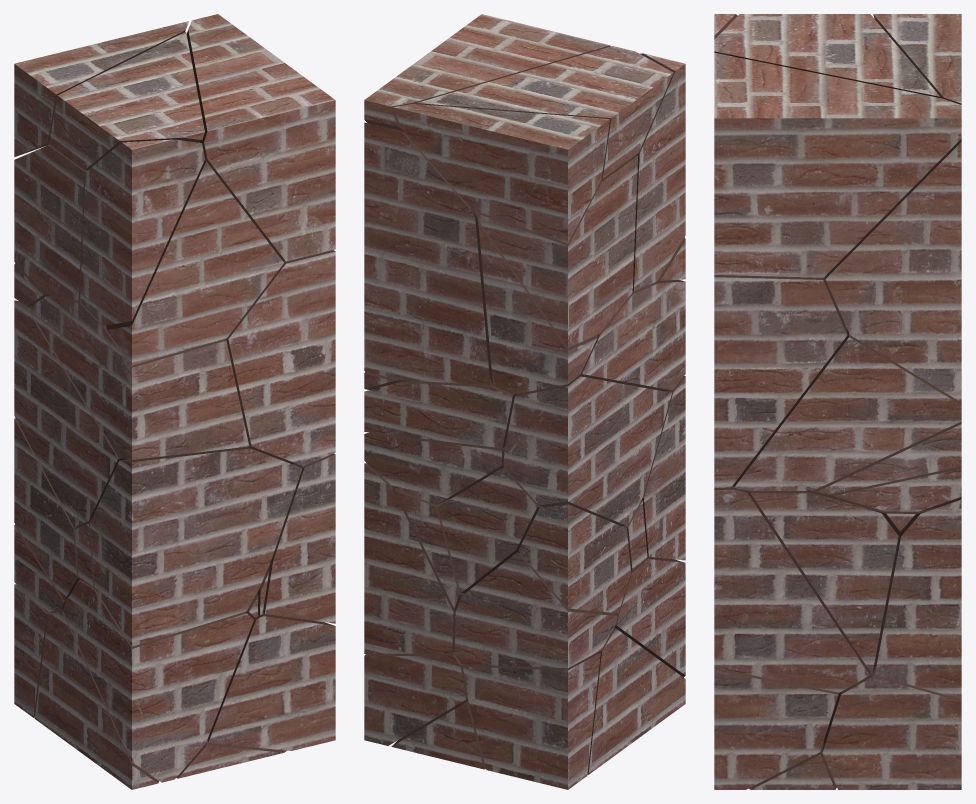
File: brkn_brickPillar1.fbx
3 renders of one model, left to right at view 1: azimuth 30°, elevation 25°; view 2: azimuth 150°, elevation 25°; view 3: azimuth 270°, elevation 25°, orthographic. The views are drawn at different scales.
Visible parts, largest first — view 1: wall_1_shard_8, wall_1_shard_5, wall_1_shard_15, wall_1_shard_26, wall_1_shard_1, wall_1_shard_23, wall_1_shard_21, wall_1_shard_30, wall_1_shard_4, wall_1_shard_17, wall_1_shard_13, wall_1_shard_20 (+8 smaller); view 2: wall_1_shard_6, wall_1_shard_16, wall_1_shard_17, wall_1_shard_13, wall_1_shard_7, wall_1_shard_4, wall_1_shard_11, wall_1_shard_14, wall_1_shard_5, wall_1_shard_3, wall_1_shard_29, wall_1_shard_21 (+12 smaller); view 3: wall_1_shard_5, wall_1_shard_6, wall_1_shard_1, wall_1_shard_20, wall_1_shard_22, wall_1_shard_19, wall_1_shard_25, wall_1_shard_14, wall_1_shard_30, wall_1_shard_4, wall_1_shard_16, wall_1_shard_10 (+3 smaller).
Part boxes in pixels (x1=…): wall_1_shard_8: x1=90, y1=447, x2=302, y2=646; wall_1_shard_5: x1=186, y1=14, x2=335, y2=261; wall_1_shard_15: x1=28, y1=295, x2=249, y2=459; wall_1_shard_26: x1=63, y1=579, x2=253, y2=782; wall_1_shard_1: x1=226, y1=250, x2=335, y2=465; wall_1_shard_23: x1=106, y1=161, x2=283, y2=365; wall_1_shard_21: x1=80, y1=139, x2=204, y2=325; wall_1_shard_30: x1=207, y1=612, x2=335, y2=750; wall_1_shard_4: x1=49, y1=32, x2=204, y2=170; wall_1_shard_17: x1=14, y1=300, x2=125, y2=526; wall_1_shard_13: x1=14, y1=145, x2=87, y2=300; wall_1_shard_20: x1=263, y1=453, x2=335, y2=623; wall_1_shard_6: x1=364, y1=122, x2=490, y2=384; wall_1_shard_16: x1=393, y1=104, x2=609, y2=243; wall_1_shard_17: x1=503, y1=376, x2=671, y2=525; wall_1_shard_13: x1=474, y1=155, x2=638, y2=347; wall_1_shard_7: x1=463, y1=652, x2=600, y2=789; wall_1_shard_4: x1=416, y1=46, x2=673, y2=178; wall_1_shard_11: x1=454, y1=552, x2=617, y2=668; wall_1_shard_14: x1=364, y1=463, x2=455, y2=653; wall_1_shard_5: x1=364, y1=14, x2=610, y2=132; wall_1_shard_3: x1=473, y1=210, x2=597, y2=394; wall_1_shard_29: x1=518, y1=504, x2=630, y2=613; wall_1_shard_21: x1=632, y1=53, x2=685, y2=290; wall_1_shard_5: x1=714, y1=52, x2=961, y2=277; wall_1_shard_6: x1=825, y1=139, x2=961, y2=402; wall_1_shard_1: x1=714, y1=275, x2=847, y2=487; wall_1_shard_20: x1=714, y1=486, x2=869, y2=692; wall_1_shard_22: x1=733, y1=329, x2=961, y2=490; wall_1_shard_19: x1=744, y1=490, x2=898, y2=674; wall_1_shard_25: x1=822, y1=666, x2=961, y2=789; wall_1_shard_14: x1=875, y1=499, x2=961, y2=699; wall_1_shard_30: x1=714, y1=668, x2=838, y2=789; wall_1_shard_4: x1=714, y1=14, x2=940, y2=97; wall_1_shard_16: x1=873, y1=14, x2=961, y2=104; wall_1_shard_10: x1=813, y1=421, x2=961, y2=494.
Bounding box in the file's own units: 1 × 3 × 1.
